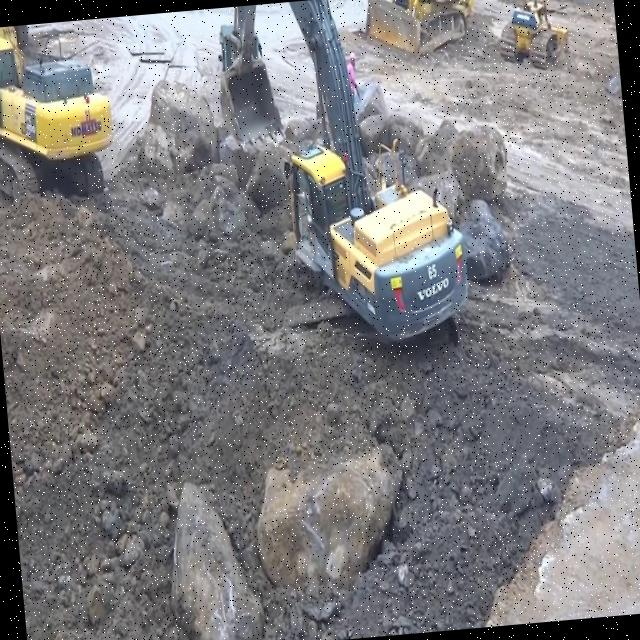Excavator: (209, 0, 474, 365), (0, 17, 118, 205)
Loader: (492, 0, 572, 74)
